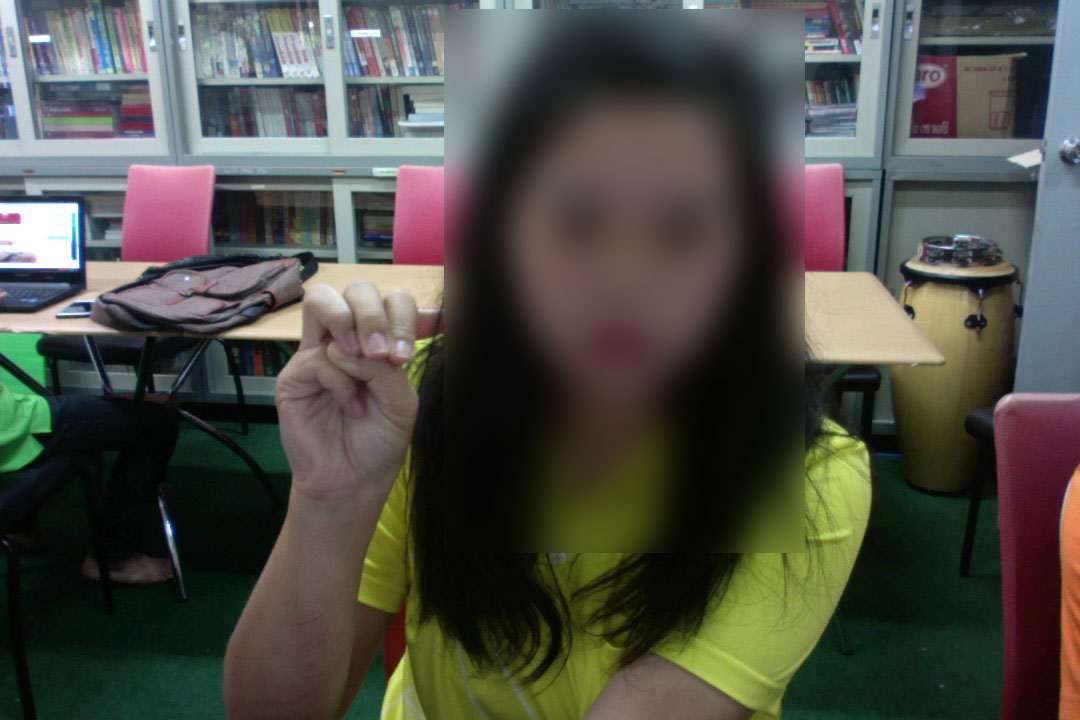mor: (276, 266, 424, 503)
